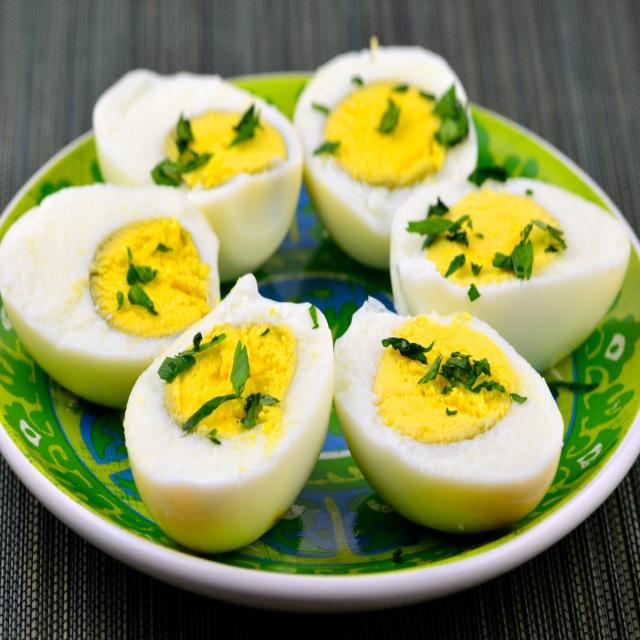eggs: (59, 70, 571, 512)
